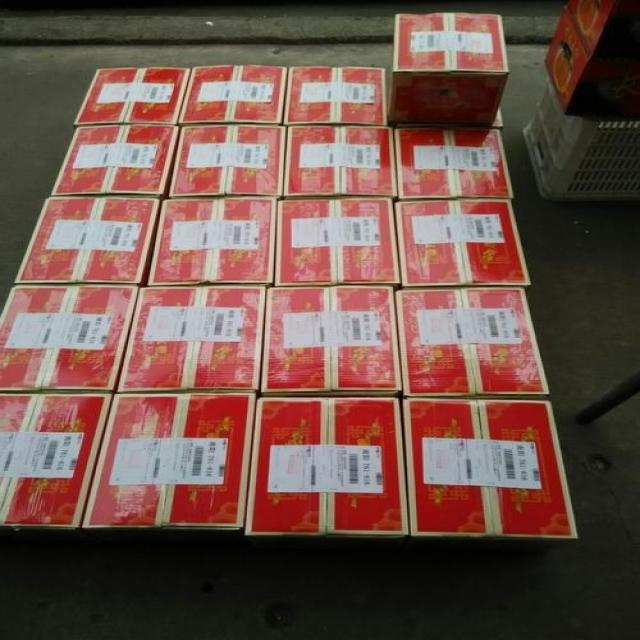box: (404, 398, 579, 538), (82, 392, 256, 529), (245, 397, 408, 537), (394, 286, 550, 395), (117, 285, 266, 392), (261, 286, 400, 396), (1, 393, 113, 528), (0, 284, 139, 392), (387, 12, 510, 123), (13, 195, 161, 284), (395, 198, 531, 287), (148, 198, 278, 285), (275, 197, 400, 285), (50, 123, 179, 198), (169, 125, 286, 198), (283, 124, 396, 199), (395, 129, 514, 199), (72, 68, 191, 125), (178, 65, 287, 124), (283, 66, 387, 126)
